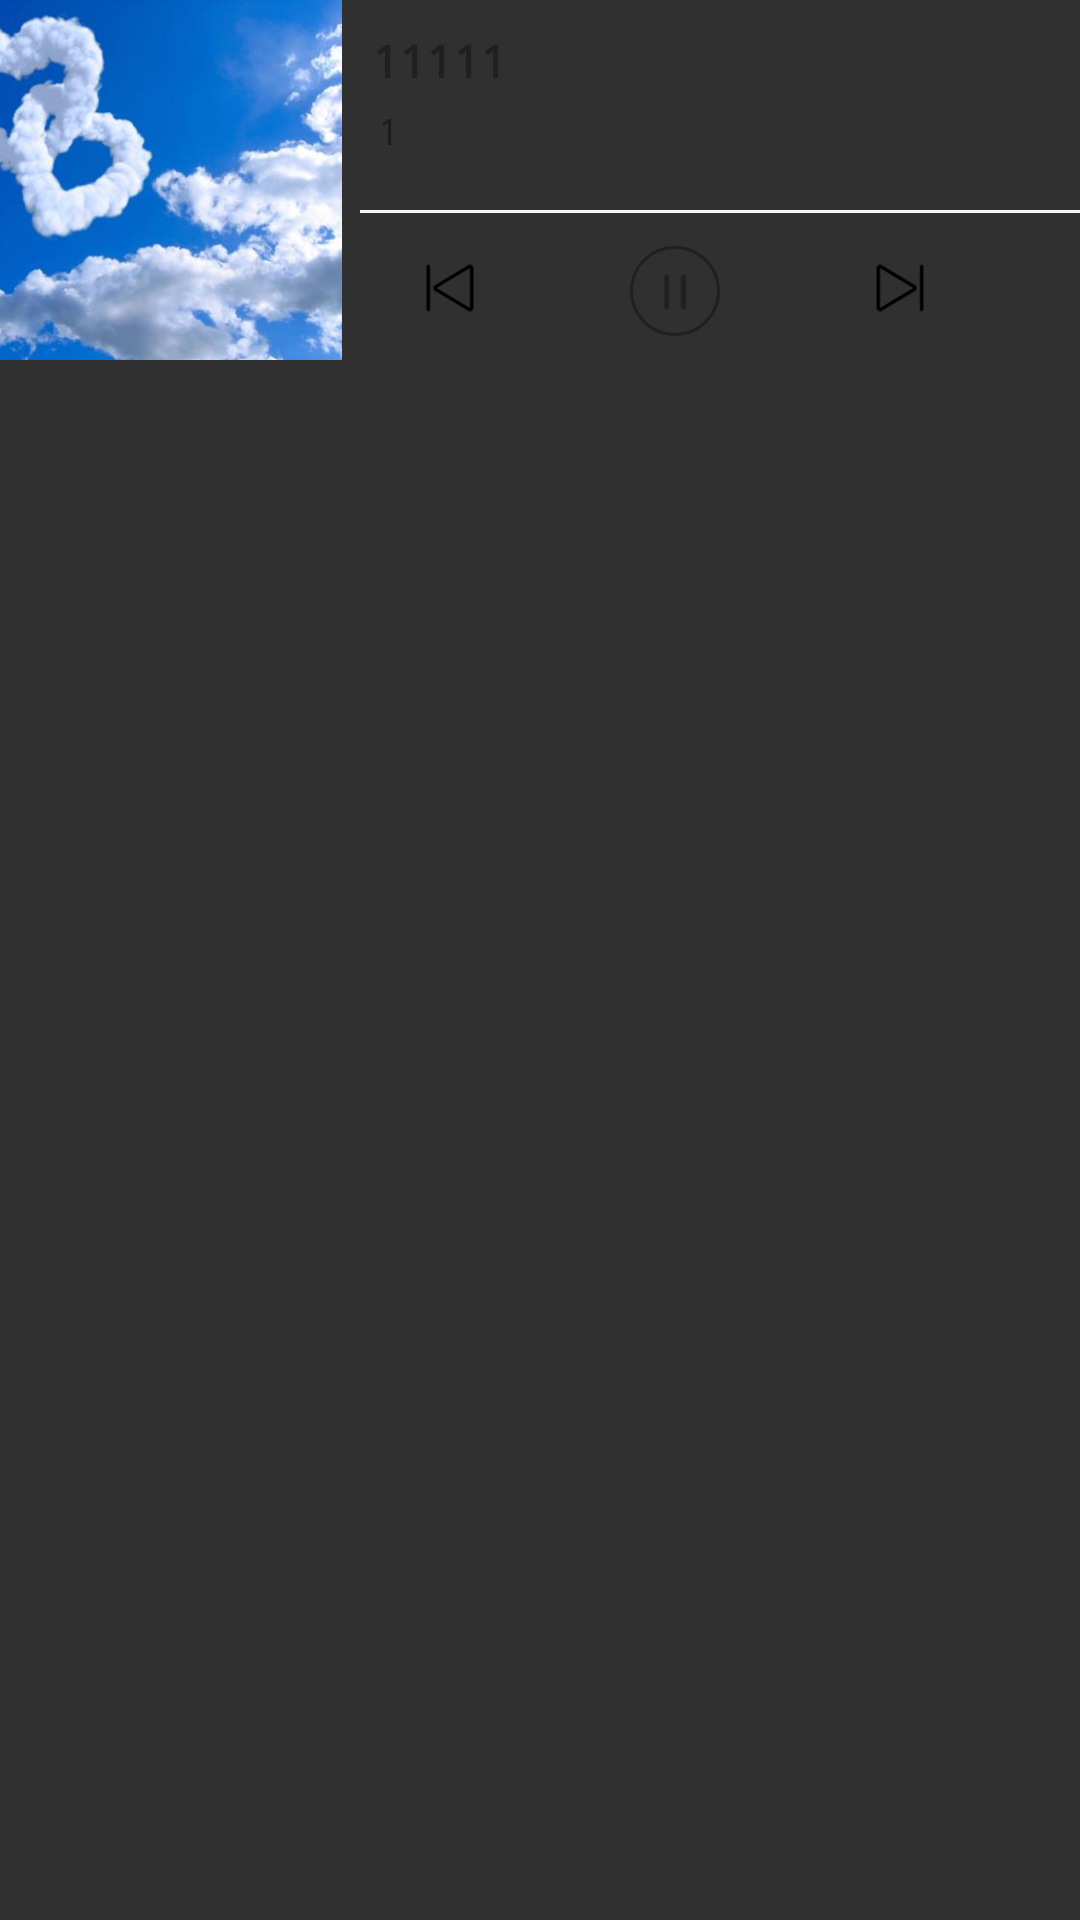

Named icons in this screenshot (1080x1920) and their bounding boxes, (x1, y1, x2, y2):
backmusic: (427, 265, 473, 311)
next: (877, 265, 923, 311)
